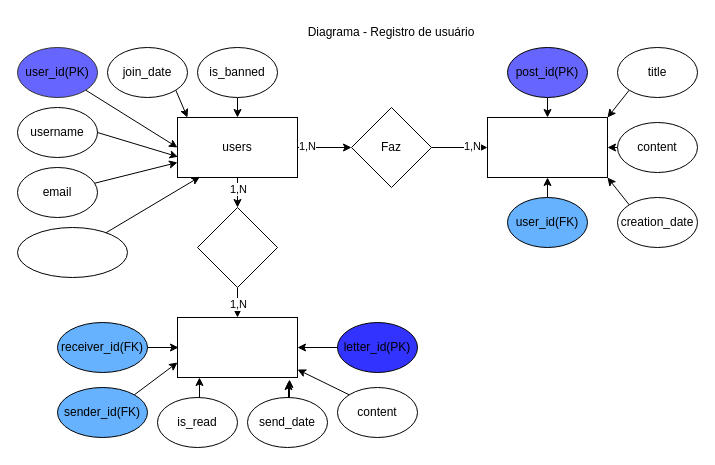
Image size: 715x465. Some labels were removed from this diagram. Here are the shapes that lost their labels. From the top down, the centre of each, then its label:
point (547, 147): posts
point (72, 252): password_hash
point (237, 247): Envia
point (237, 347): direct_letters
